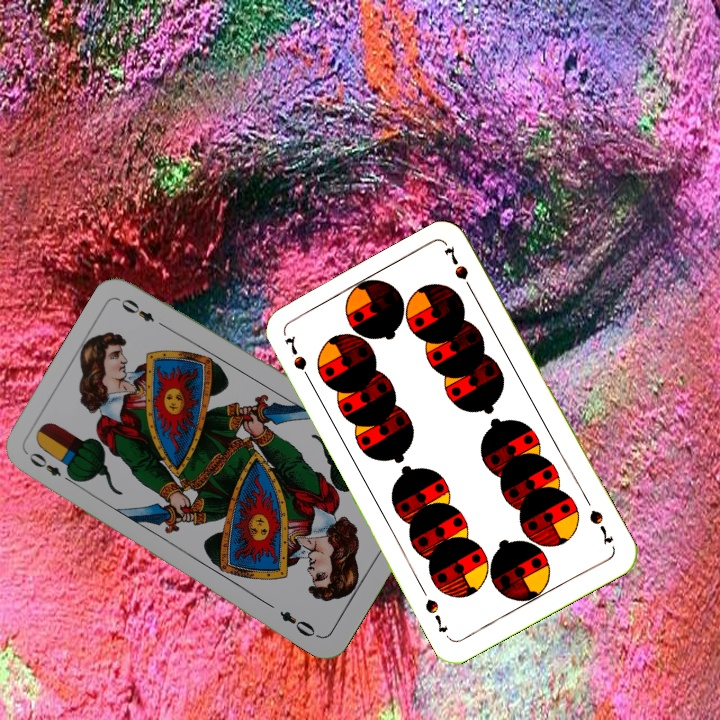EO: (25, 448, 78, 487)
S7: (280, 331, 315, 386), (585, 505, 616, 548)
